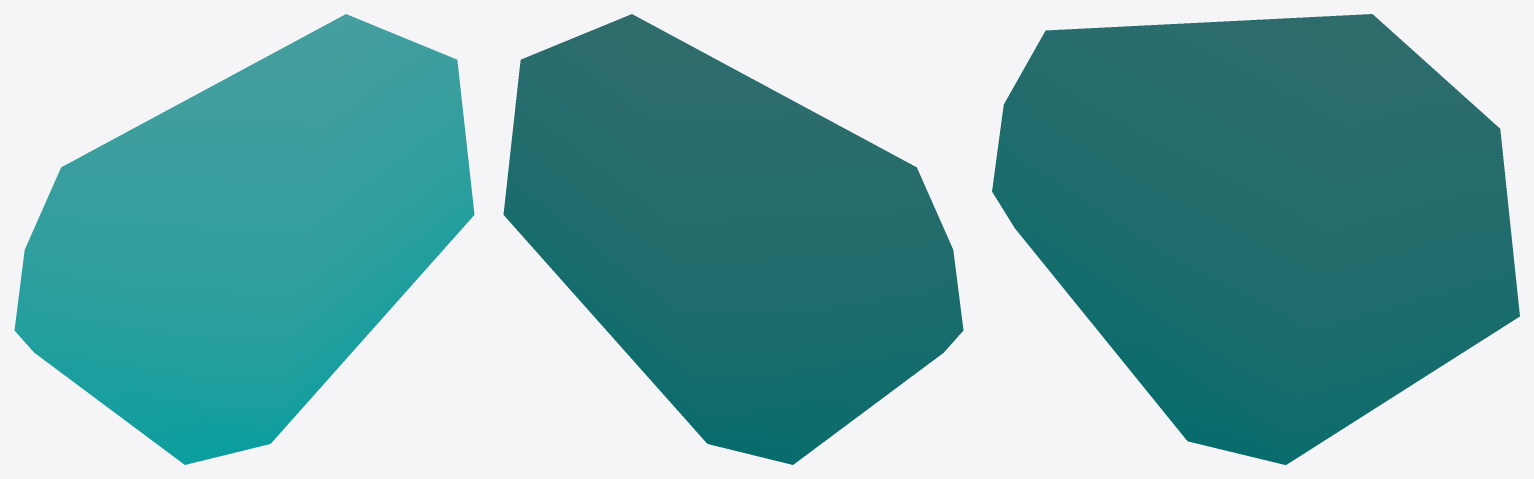
Rendered from Common_Hemp_Nettle_xh1kdfbqx_Mid_xh1kdfbqx_VarC_LOD3.fbx.
3 views of the same model, side by side, from view 1: azimuth 30°, elevation 25°; view 2: azimuth 150°, elevation 25°; view 3: azimuth 330°, elevation 25° (orthographic). The views are drawn at different scales.
Parts seen in each view (by area): view 1: _hbd8_VarC_LOD5; view 2: _hbd8_VarC_LOD5; view 3: _hbd8_VarC_LOD5.
Boxes of the visible parts, x1,y1,x2,y2 form: _hbd8_VarC_LOD5: [14, 14, 474, 464]; _hbd8_VarC_LOD5: [503, 14, 963, 464]; _hbd8_VarC_LOD5: [992, 14, 1519, 464].
Bounding box in the file's own units: 87.61 × 74.92 × 3.27e-06.
